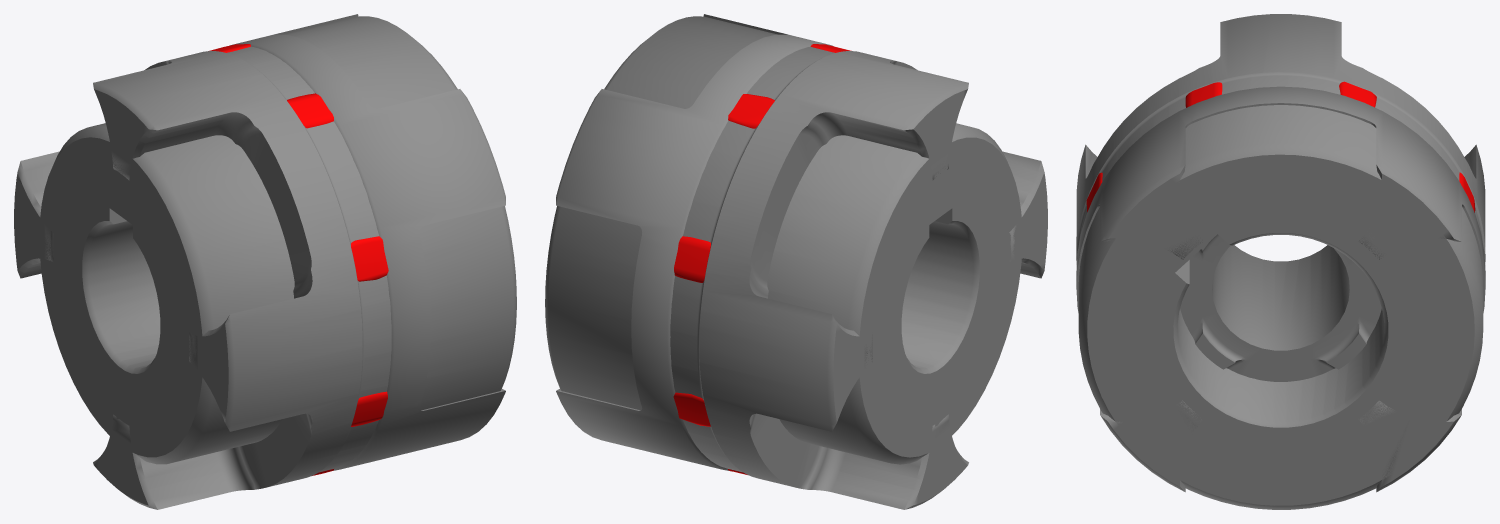
File: Motor&PumpCoupling(Separate).fbx
3 views of the same model, side by side, from view 1: azimuth 30°, elevation 25°; view 2: azimuth 150°, elevation 25°; view 3: azimuth 270°, elevation 25° (orthographic). The views are drawn at different scales.
Parts seen in each view (by area): view 1: 600153 Cou.Hub.B 42- 48,00-H7-A-GG-L= 50.glb (1), 600138 Cou-Hub.A 42-32,00-H7-A-GG -L= 50,0.glb (1), 600101 Spider-42-PUR-98SH RED.glb (1); view 2: 600153 Cou.Hub.B 42- 48,00-H7-A-GG-L= 50.glb (1), 600138 Cou-Hub.A 42-32,00-H7-A-GG -L= 50,0.glb (1), 600101 Spider-42-PUR-98SH RED.glb (1); view 3: 600153 Cou.Hub.B 42- 48,00-H7-A-GG-L= 50.glb (1), 600138 Cou-Hub.A 42-32,00-H7-A-GG -L= 50,0.glb (1), 600101 Spider-42-PUR-98SH RED.glb (1).
Boxes of the visible parts, x1,y1,x2,y2 form: 600153 Cou.Hub.B 42- 48,00-H7-A-GG-L= 50.glb (1): (14, 16, 516, 509); 600138 Cou-Hub.A 42-32,00-H7-A-GG -L= 50,0.glb (1): (39, 14, 505, 470); 600101 Spider-42-PUR-98SH RED.glb (1): (209, 44, 388, 475); 600153 Cou.Hub.B 42- 48,00-H7-A-GG-L= 50.glb (1): (545, 16, 1047, 509); 600138 Cou-Hub.A 42-32,00-H7-A-GG -L= 50,0.glb (1): (556, 14, 1022, 471); 600101 Spider-42-PUR-98SH RED.glb (1): (673, 44, 851, 474); 600153 Cou.Hub.B 42- 48,00-H7-A-GG-L= 50.glb (1): (1076, 14, 1485, 509); 600138 Cou-Hub.A 42-32,00-H7-A-GG -L= 50,0.glb (1): (1076, 86, 1485, 492); 600101 Spider-42-PUR-98SH RED.glb (1): (1086, 81, 1475, 212).
Size of the model in its own units: 73 by 95 by 95.
